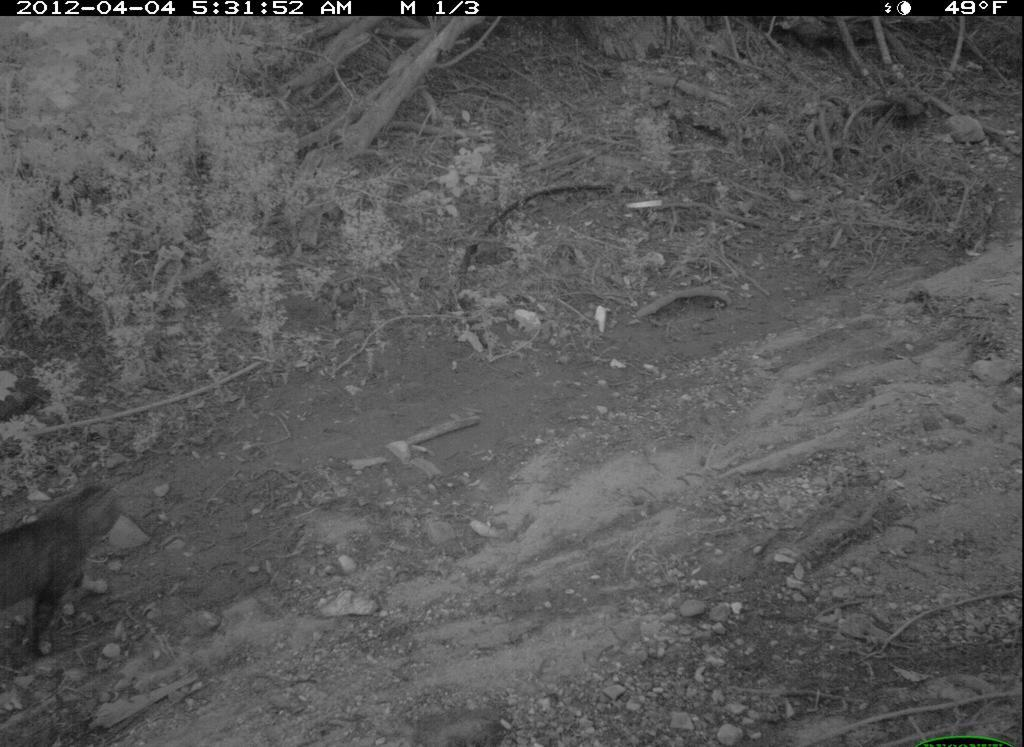cat: (7, 470, 134, 657)
